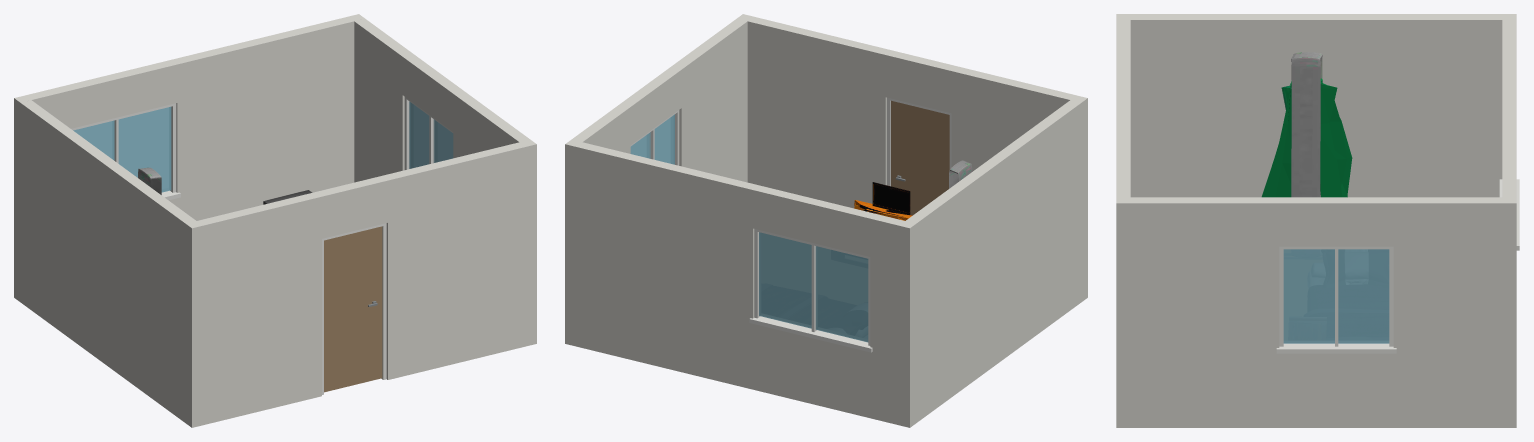
The model's file is layoutvlm.glb.
The picture shows the model from 3 angles, left to right: view 1: azimuth 30°, elevation 25°; view 2: azimuth 150°, elevation 25°; view 3: azimuth 270°, elevation 25°; orthographic projection. The views are drawn at different scales.
Parts seen in each view (by area): view 1: wall|scenesmith_020__R00|0, wall|scenesmith_020__R00|1, wall|scenesmith_020__R00|2, wall|scenesmith_020__R00|3, wall|scenesmith_020__R00|0 Door 0 | wood leaf, wall|scenesmith_020__R00|1 Window 0 | glazing, wall|scenesmith_020__R00|3 Window 0 | glazing, wall|scenesmith_020__R00|0 Door 0 | jamb, wall|scenesmith_020__R00|1 Window 0 | jamb, wall|scenesmith_020__R00|3 Window 0 | jamb; view 2: wall|scenesmith_020__R00|1, wall|scenesmith_020__R00|2, wall|scenesmith_020__R00|0, wall|scenesmith_020__R00|3, wall|scenesmith_020__R00|1 Window 0 | glazing, wall|scenesmith_020__R00|0 Door 0 | wood leaf, wall|scenesmith_020__R00|1 Window 0 | jamb, scenesmith_020__R00_tv-0, wall|scenesmith_020__R00|3 Window 0 | glazing, wall|scenesmith_020__R00|0 Door 0 | jamb, wall|scenesmith_020__R00|3 Window 0 | jamb; view 3: wall|scenesmith_020__R00|3, wall|scenesmith_020__R00|2, wall|scenesmith_020__R00|3 Window 0 | glazing, scenesmith_020__R00_curtains-0, wall|scenesmith_020__R00|1, wall|scenesmith_020__R00|0, wall|scenesmith_020__R00|3 Window 0 | jamb.
Boxes of the visible parts, box(x1,y1,x2,y2) form: wall|scenesmith_020__R00|0: box(192, 142, 525, 427); wall|scenesmith_020__R00|1: box(14, 14, 364, 301); wall|scenesmith_020__R00|2: box(20, 100, 202, 427); wall|scenesmith_020__R00|3: box(354, 18, 536, 346); wall|scenesmith_020__R00|0 Door 0 | wood leaf: box(324, 226, 382, 392); wall|scenesmith_020__R00|1 Window 0 | glazing: box(73, 106, 171, 192); wall|scenesmith_020__R00|3 Window 0 | glazing: box(409, 101, 453, 168); wall|scenesmith_020__R00|0 Door 0 | jamb: box(322, 223, 386, 394); wall|scenesmith_020__R00|1 Window 0 | jamb: box(71, 103, 180, 200); wall|scenesmith_020__R00|3 Window 0 | jamb: box(404, 97, 453, 169); wall|scenesmith_020__R00|1: box(565, 139, 916, 427); wall|scenesmith_020__R00|2: box(899, 95, 1087, 427); wall|scenesmith_020__R00|0: box(747, 16, 1076, 208); wall|scenesmith_020__R00|3: box(565, 14, 753, 346); wall|scenesmith_020__R00|1 Window 0 | glazing: box(759, 232, 868, 342); wall|scenesmith_020__R00|0 Door 0 | wood leaf: box(891, 100, 949, 215); wall|scenesmith_020__R00|1 Window 0 | jamb: box(749, 229, 872, 352); scenesmith_020__R00_tv-0: box(854, 182, 912, 220); wall|scenesmith_020__R00|3 Window 0 | glazing: box(630, 114, 674, 164); wall|scenesmith_020__R00|0 Door 0 | jamb: box(887, 97, 951, 186); wall|scenesmith_020__R00|3 Window 0 | jamb: box(630, 110, 679, 165); wall|scenesmith_020__R00|3: box(1116, 197, 1502, 427); wall|scenesmith_020__R00|2: box(1116, 14, 1502, 197); wall|scenesmith_020__R00|3 Window 0 | glazing: box(1283, 249, 1389, 343); scenesmith_020__R00_curtains-0: box(1261, 52, 1352, 197); wall|scenesmith_020__R00|1: box(1502, 14, 1516, 427); wall|scenesmith_020__R00|0: box(1116, 20, 1130, 427); wall|scenesmith_020__R00|3 Window 0 | jamb: box(1276, 246, 1396, 353).
Size of the model in its own units: 4.73 by 2.61 by 4.23.
12 materials, 6 textured.
